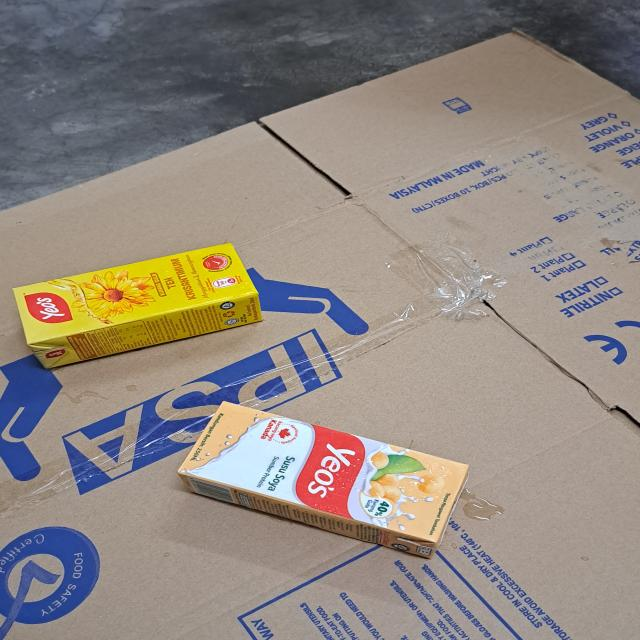cardboard: (0, 31, 640, 640), (4, 240, 262, 365)
